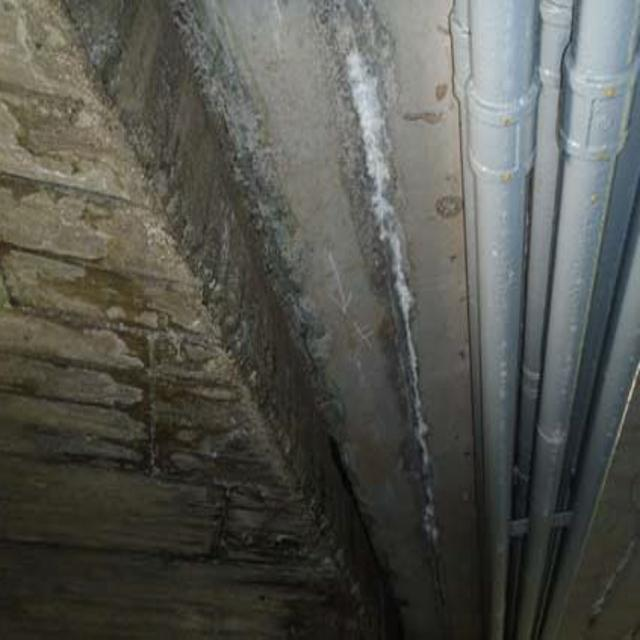freelime: (342, 63, 447, 544)
